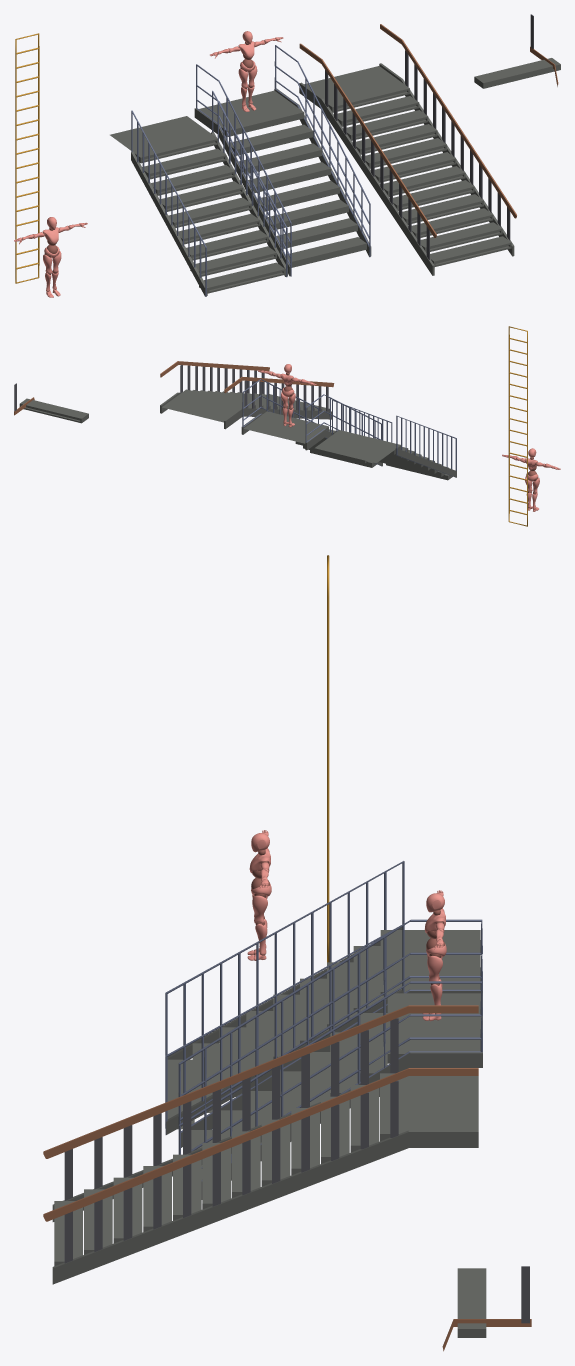
The model's file is escalerasmetal.glb.
3 views of the same model, one above another, from view 1: azimuth 30°, elevation 25°; view 2: azimuth 150°, elevation 25°; view 3: azimuth 270°, elevation 25° (orthographic). The views are drawn at different scales.
Parts seen in each view (by area): view 1: Pasamanos_Izquierdo, escalera.001, Cube.006, Cube.012, Pasamanos_Izquierdo.001, maniqui.001, maniqui.002, Cube.001; view 2: Pasamanos_Izquierdo, escalera.001, Cube.006, Cube.012, Pasamanos_Izquierdo.001, maniqui.002, Cube.001, maniqui.001; view 3: Pasamanos_Izquierdo, escalera.001, Cube.006, Cube.012, Cube.001, maniqui.001, maniqui.002, Pasamanos_Izquierdo.001.
Boxes of the visible parts, x1=… form: Pasamanos_Izquierdo: x1=299, y1=24, x2=516, y2=275; escalera.001: x1=194, y1=45, x2=371, y2=276; Cube.006: x1=110, y1=116, x2=287, y2=296; Cube.012: x1=131, y1=90, x2=287, y2=296; Pasamanos_Izquierdo.001: x1=15, y1=33, x2=39, y2=283; maniqui.001: x1=14, y1=217, x2=87, y2=297; maniqui.002: x1=210, y1=31, x2=283, y2=111; Cube.001: x1=474, y1=58, x2=560, y2=88; Pasamanos_Izquierdo: x1=160, y1=361, x2=334, y2=429; escalera.001: x1=241, y1=379, x2=382, y2=467; Cube.006: x1=315, y1=430, x2=456, y2=480; Cube.012: x1=332, y1=400, x2=456, y2=477; Pasamanos_Izquierdo.001: x1=508, y1=326, x2=527, y2=526; maniqui.002: x1=258, y1=364, x2=316, y2=427; Cube.001: x1=19, y1=398, x2=88, y2=423; maniqui.001: x1=502, y1=448, x2=560, y2=511; Pasamanos_Izquierdo: x1=43, y1=1005, x2=478, y2=1284; escalera.001: x1=178, y1=919, x2=482, y2=1199; Cube.006: x1=166, y1=927, x2=480, y2=1134; Cube.012: x1=165, y1=861, x2=404, y2=1134; Cube.001: x1=457, y1=1268, x2=486, y2=1337; maniqui.001: x1=247, y1=830, x2=271, y2=960; maniqui.002: x1=422, y1=890, x2=446, y2=1021; Pasamanos_Izquierdo.001: x1=327, y1=555, x2=329, y2=962.
Size of the model in its own units: 15.65 by 6.39 by 6.81.
